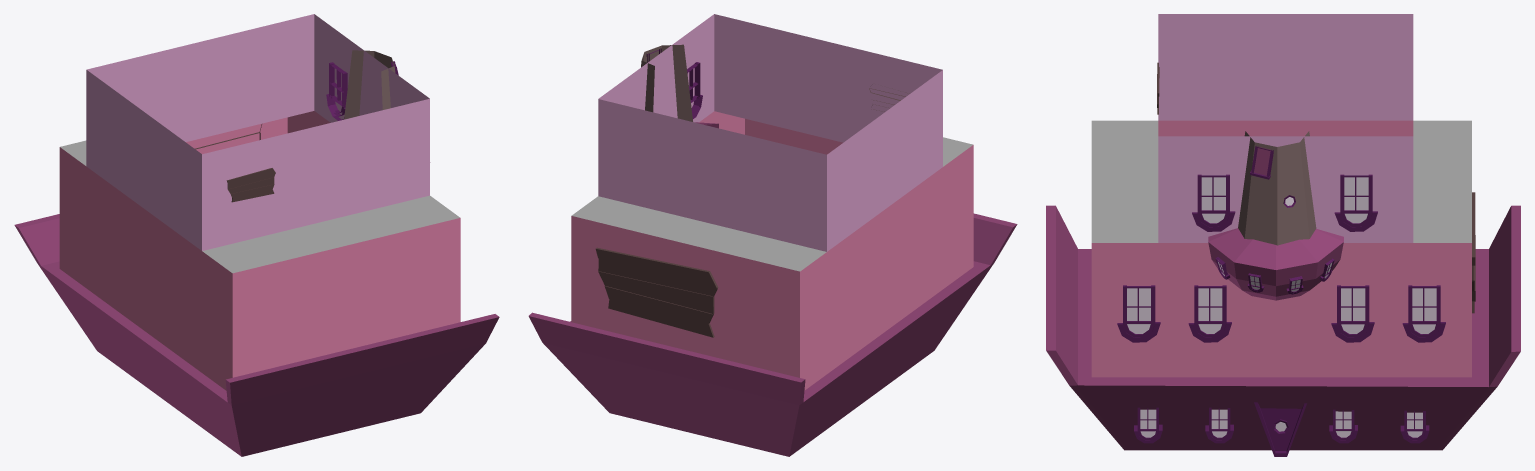
Rendered from building 6.fbx.
3 views of the same model, side by side, from view 1: azimuth 30°, elevation 25°; view 2: azimuth 150°, elevation 25°; view 3: azimuth 270°, elevation 25° (orthographic). The views are drawn at different scales.
Parts seen in each view (by area): view 1: Hansel:polySurface367; view 2: Hansel:polySurface367; view 3: Hansel:polySurface367.
Boxes of the visible parts, x1,y1,x2,y2 form: Hansel:polySurface367: [14, 14, 499, 456]; Hansel:polySurface367: [528, 14, 1017, 456]; Hansel:polySurface367: [1046, 14, 1520, 456].
Bounding box in the file's own units: 2.64 × 2.53 × 3.33.
